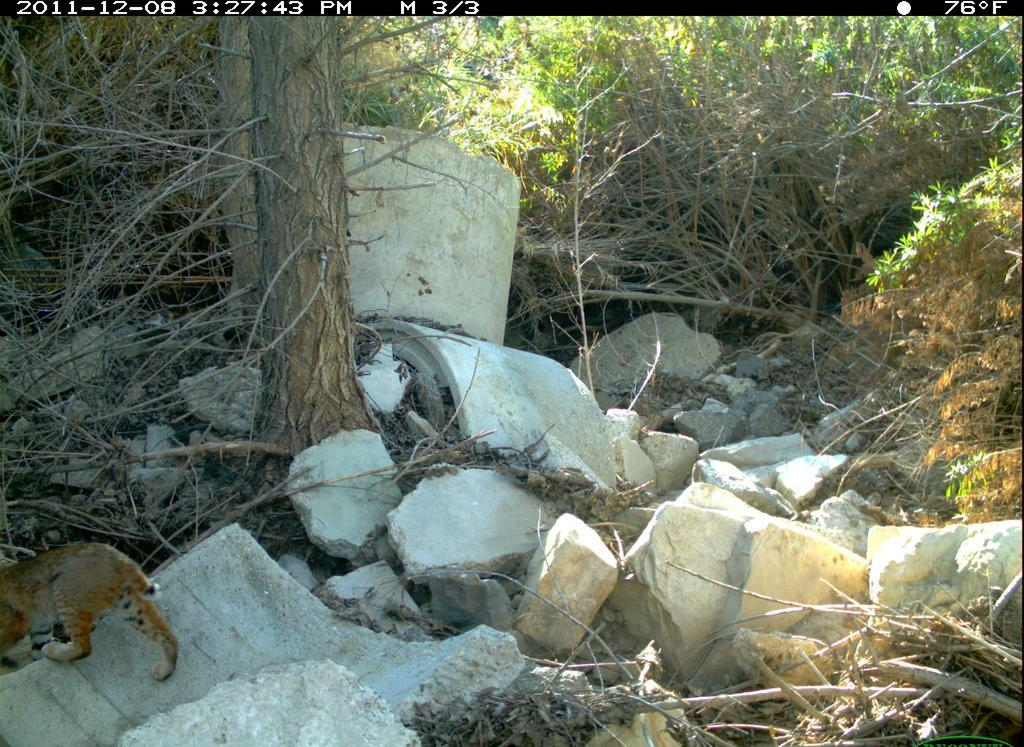bobcat: (1, 538, 182, 689)
